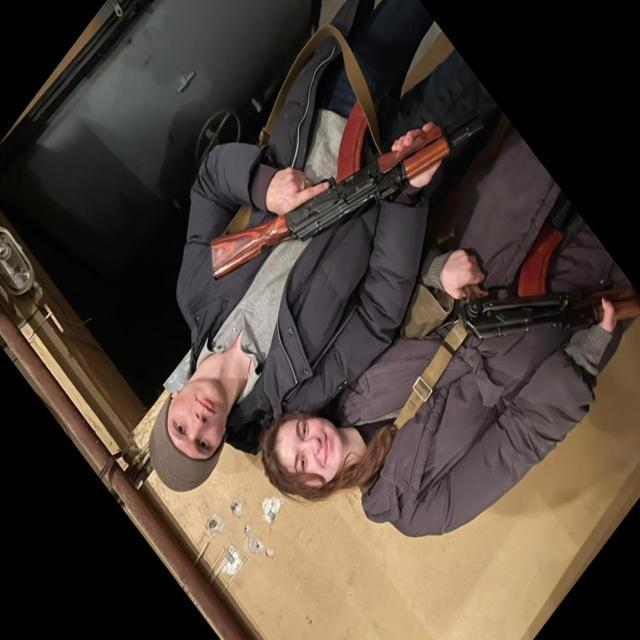weapon: (211, 115, 487, 282), (451, 222, 640, 340)
